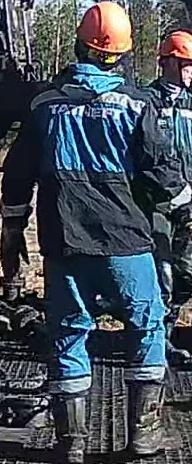gloves: (0, 217, 34, 283)
helmet: (75, 1, 133, 53), (158, 29, 191, 62)
vest: (30, 80, 157, 257), (146, 79, 192, 206)
